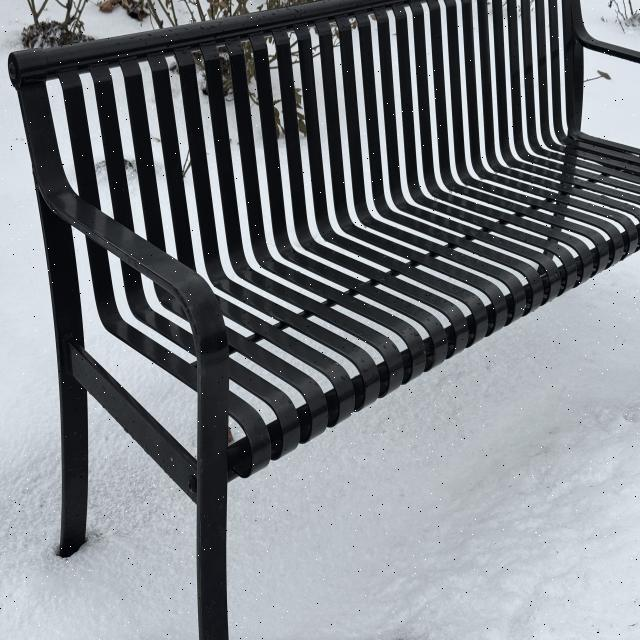Bench: (4, 5, 636, 640)
